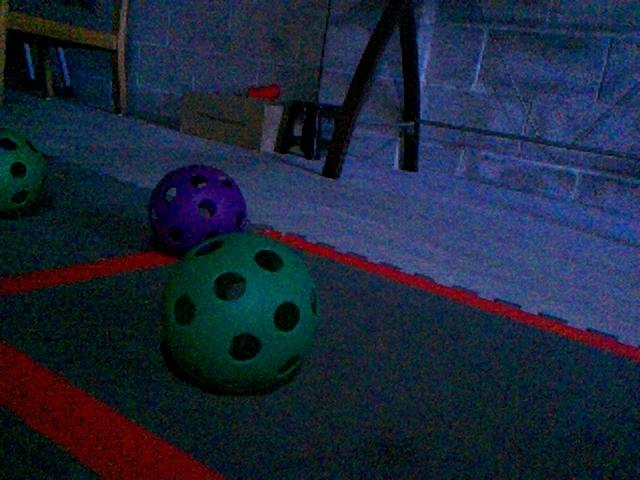Green: (158, 231, 321, 392), (0, 128, 48, 214)
Purple: (146, 164, 249, 257)
